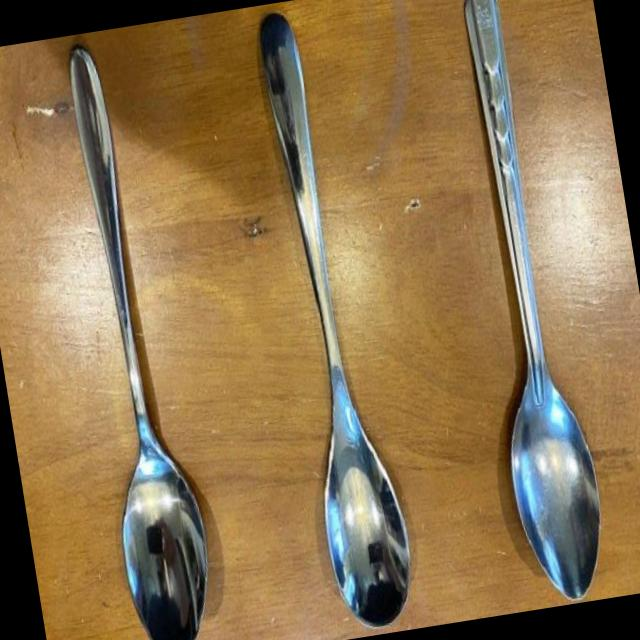spoon: (429, 0, 613, 606)
